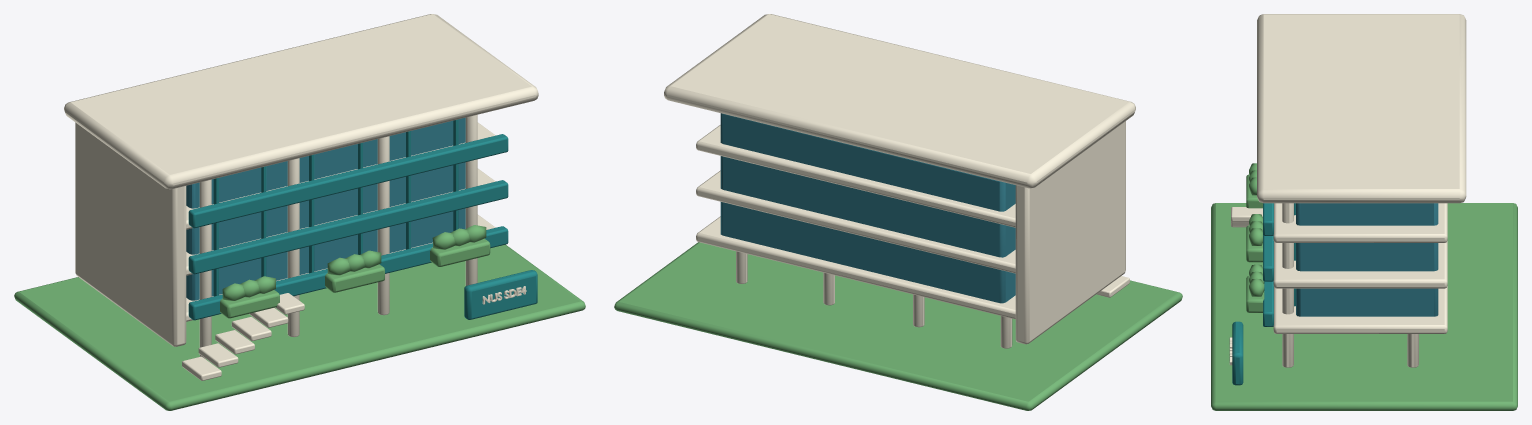
The model's file is national-university-v2.glb.
The picture shows the model from 3 angles, left to right: view 1: azimuth 30°, elevation 25°; view 2: azimuth 150°, elevation 25°; view 3: azimuth 270°, elevation 25°; orthographic projection.
Visible parts, largest first — view 1: NUS SDE4 ASSEMBLY · Chalk, NUS SDE4 ASSEMBLY · Plant mid, NUS SDE4 ASSEMBLY · Deep teal, NUS SDE4 ASSEMBLY · Graphic glass; view 2: NUS SDE4 ASSEMBLY · Chalk, NUS SDE4 ASSEMBLY · Plant mid, NUS SDE4 ASSEMBLY · Graphic glass; view 3: NUS SDE4 ASSEMBLY · Chalk, NUS SDE4 ASSEMBLY · Plant mid, NUS SDE4 ASSEMBLY · Graphic glass, NUS SDE4 ASSEMBLY · Deep teal.
Part boxes in pixels (x1,y1,x2,y2): NUS SDE4 ASSEMBLY · Chalk: (64, 14, 538, 380); NUS SDE4 ASSEMBLY · Plant mid: (14, 225, 585, 410); NUS SDE4 ASSEMBLY · Deep teal: (188, 119, 537, 320); NUS SDE4 ASSEMBLY · Graphic glass: (186, 117, 465, 300); NUS SDE4 ASSEMBLY · Chalk: (664, 14, 1135, 348); NUS SDE4 ASSEMBLY · Plant mid: (614, 242, 1182, 410); NUS SDE4 ASSEMBLY · Graphic glass: (720, 113, 1015, 303); NUS SDE4 ASSEMBLY · Chalk: (1229, 14, 1466, 367); NUS SDE4 ASSEMBLY · Plant mid: (1211, 163, 1517, 410); NUS SDE4 ASSEMBLY · Graphic glass: (1296, 203, 1438, 316); NUS SDE4 ASSEMBLY · Deep teal: (1232, 203, 1295, 385).
Size of the model in its own units: 8.6 by 4.15 by 5.5.
